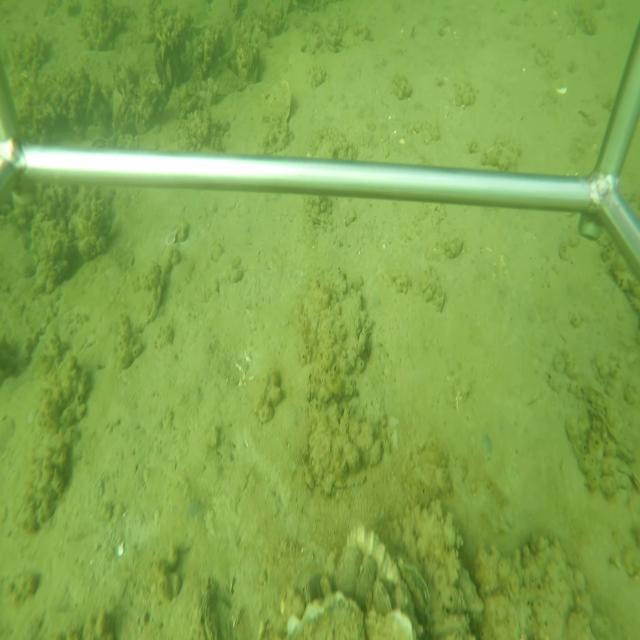Oyster-Closed: (397, 557, 432, 622), (356, 551, 378, 610), (373, 577, 392, 622)
Oyster-Indeterminate: (134, 258, 170, 328), (256, 71, 293, 121), (332, 545, 366, 598)
